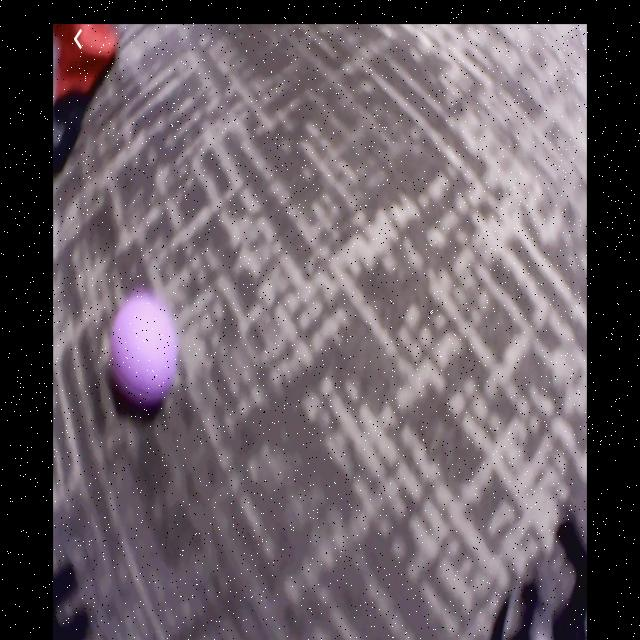ball: (113, 295, 178, 408)
